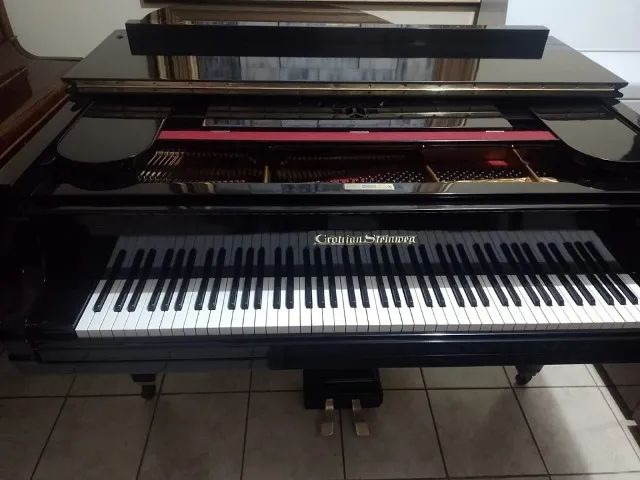Piano: (22, 2, 640, 440)
